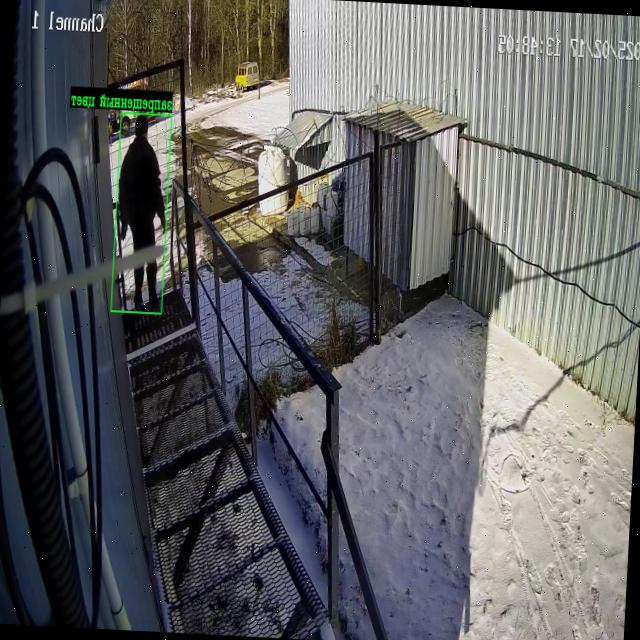Person: (119, 115, 165, 250), (146, 261, 160, 309), (134, 267, 145, 310)
